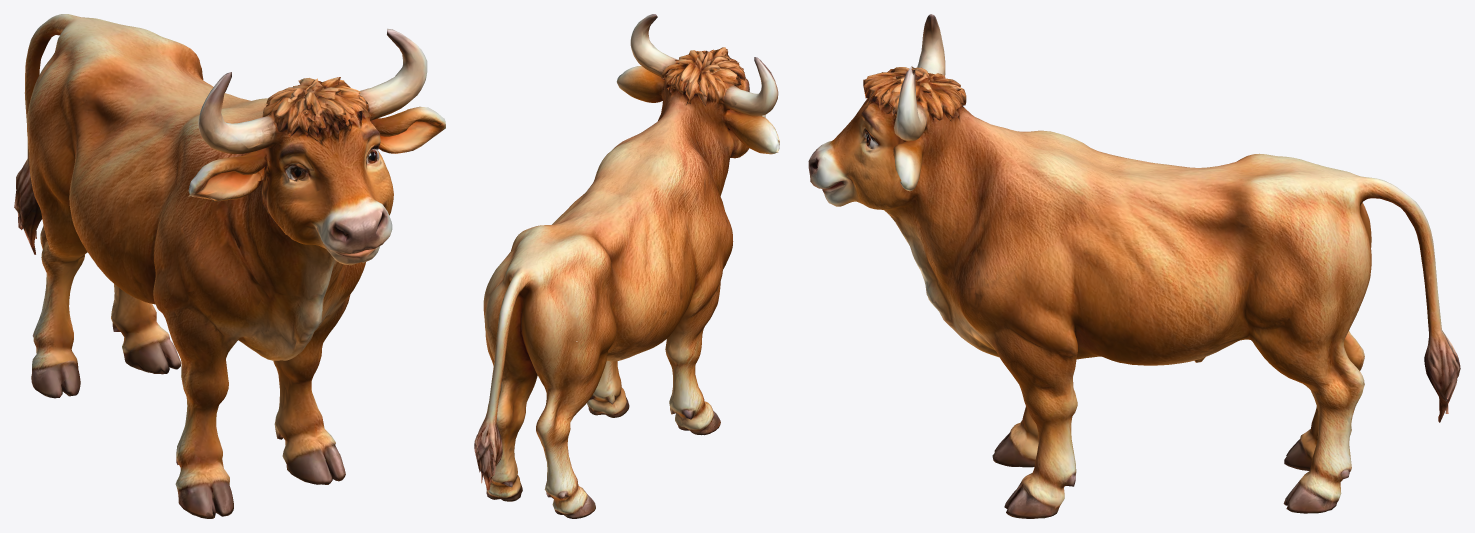
3 views of the same model, side by side, from view 1: azimuth 30°, elevation 25°; view 2: azimuth 150°, elevation 25°; view 3: azimuth 270°, elevation 25° (orthographic). The views are drawn at different scales.
Parts seen in each view (by area): view 1: tripo_node_af33ffd0-e814-4897-953d-09c99f1ab9ce; view 2: tripo_node_af33ffd0-e814-4897-953d-09c99f1ab9ce; view 3: tripo_node_af33ffd0-e814-4897-953d-09c99f1ab9ce.
Part boxes in pixels (left/top/right/bottom): tripo_node_af33ffd0-e814-4897-953d-09c99f1ab9ce: left=14, top=14, right=445, bottom=518; tripo_node_af33ffd0-e814-4897-953d-09c99f1ab9ce: left=474, top=14, right=779, bottom=518; tripo_node_af33ffd0-e814-4897-953d-09c99f1ab9ce: left=808, top=14, right=1460, bottom=518.
Bounding box in the file's own units: 0.3768 × 0.7393 × 0.9795.
Materials: 1 (1 with a texture image).
